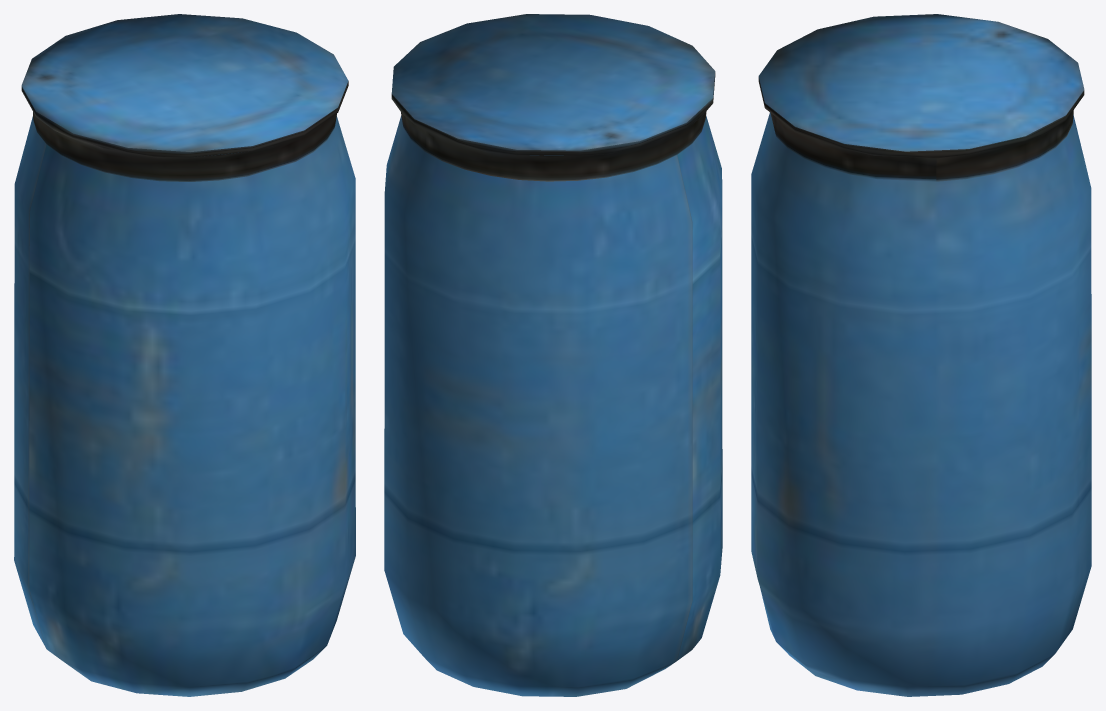
The model's file is Rue_Fut.obj.
3 views of the same model, side by side, from view 1: azimuth 30°, elevation 25°; view 2: azimuth 150°, elevation 25°; view 3: azimuth 270°, elevation 25° (orthographic).
Parts seen in each view (by area): view 1: Rue_Fut; view 2: Rue_Fut; view 3: Rue_Fut.
Part boxes in pixels (x1,y1,x2,y2): Rue_Fut: (14, 14, 355, 696); Rue_Fut: (384, 14, 722, 696); Rue_Fut: (751, 14, 1091, 696).
Size of the model in its own units: 0.5192 by 0.9365 by 0.5194.
Materials: 1 (1 with a texture image).
